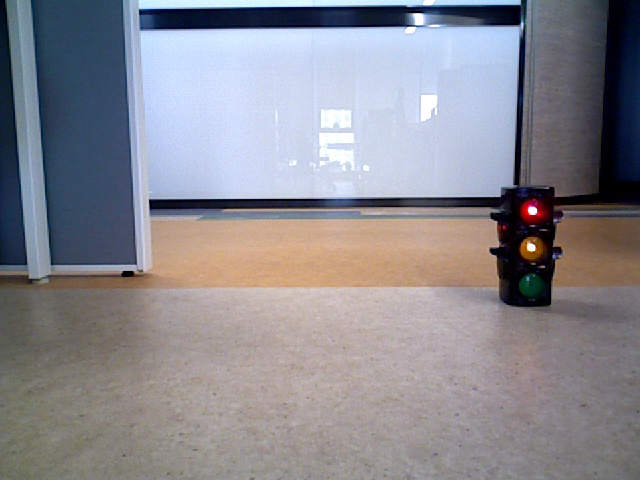red: (502, 194, 551, 306)
